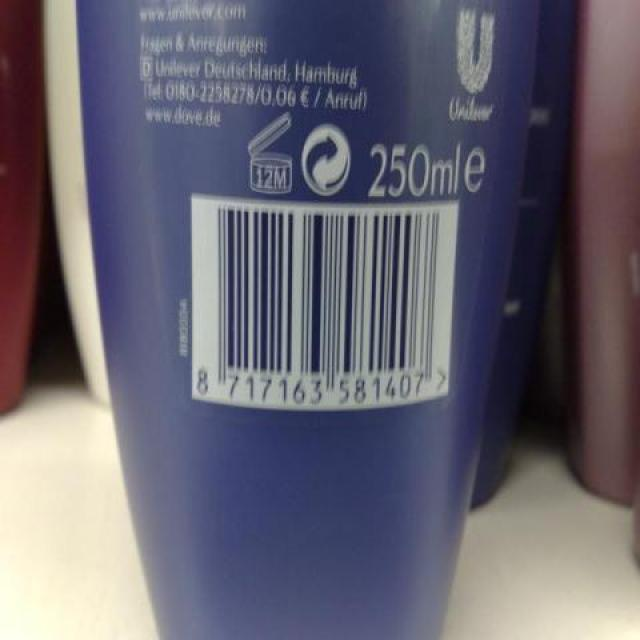Barcode: (192, 197, 459, 412)
